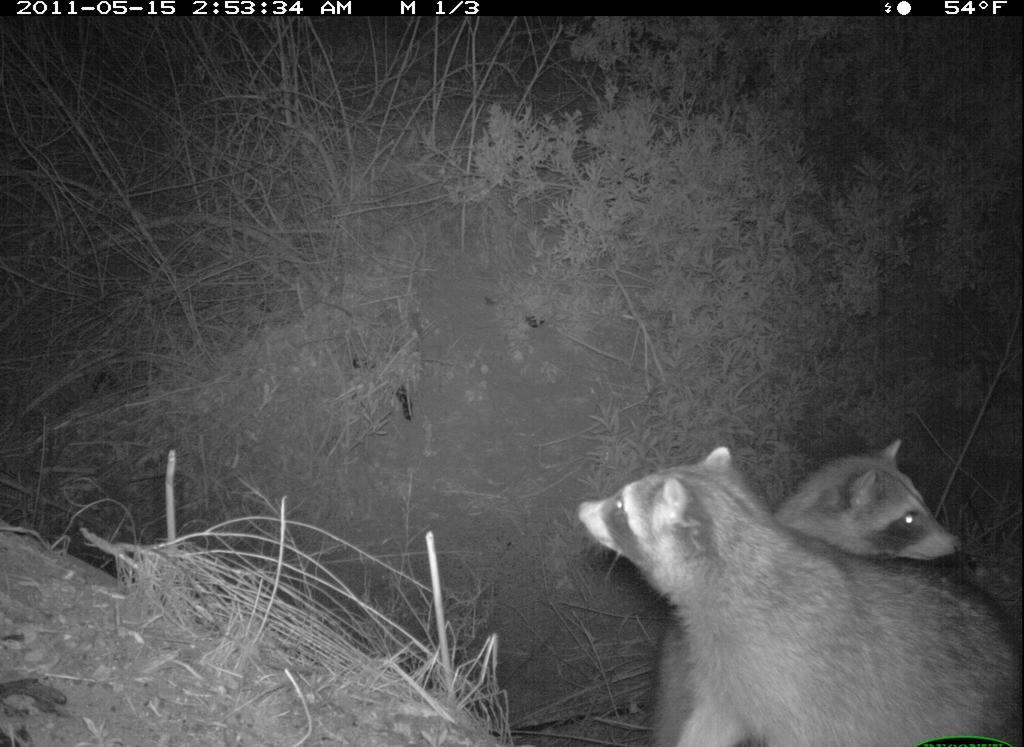raccoon: (571, 441, 1023, 747), (647, 440, 975, 747)
